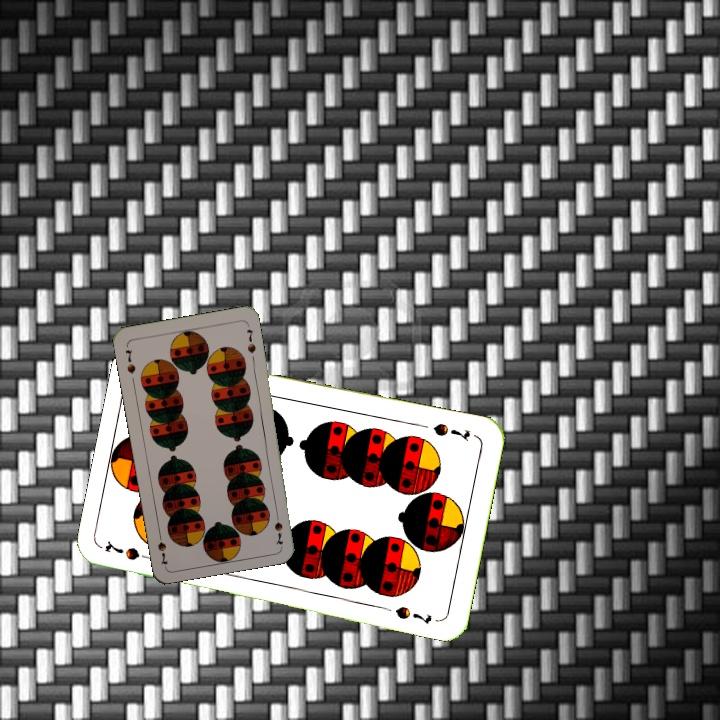S7: (101, 538, 158, 563), (429, 419, 473, 444), (121, 346, 138, 376), (270, 507, 285, 534)
